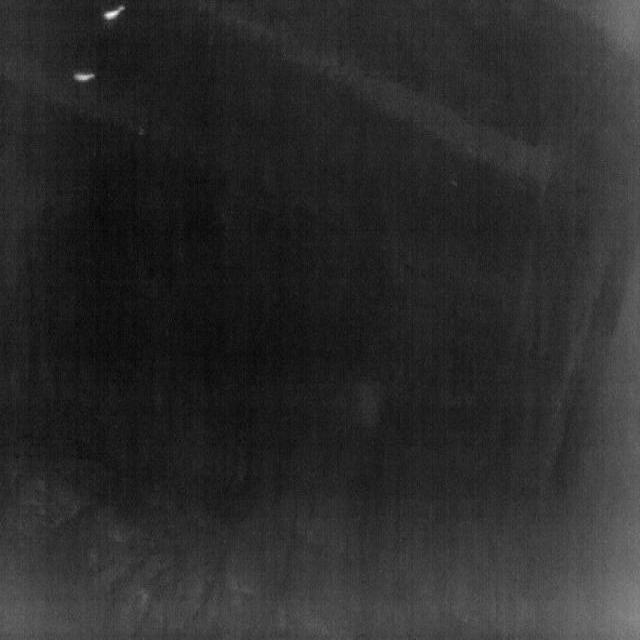deer: (102, 5, 126, 21), (74, 72, 96, 83)
